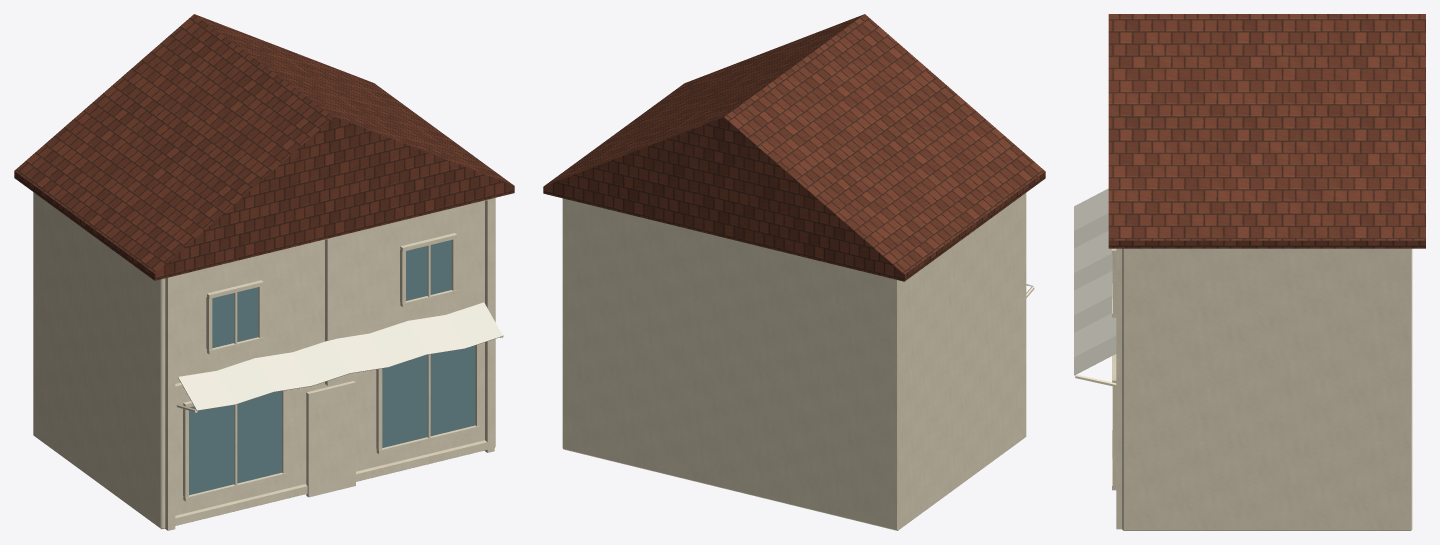
File: Furn_Town_Shop.fbx
3 views of the same model, side by side, from view 1: azimuth 30°, elevation 25°; view 2: azimuth 150°, elevation 25°; view 3: azimuth 270°, elevation 25° (orthographic). The views are drawn at different scales.
Visible parts, largest first — view 1: Furn_Town_Shop_Mesh; view 2: Furn_Town_Shop_Mesh; view 3: Furn_Town_Shop_Mesh.
Part boxes in pixels (x1,y1,x2,y2): Furn_Town_Shop_Mesh: (14, 14, 514, 530); Furn_Town_Shop_Mesh: (543, 14, 1045, 530); Furn_Town_Shop_Mesh: (1074, 14, 1425, 530).
Bounding box in the file's own units: 8 × 8 × 6.
4 materials, 2 textured.
